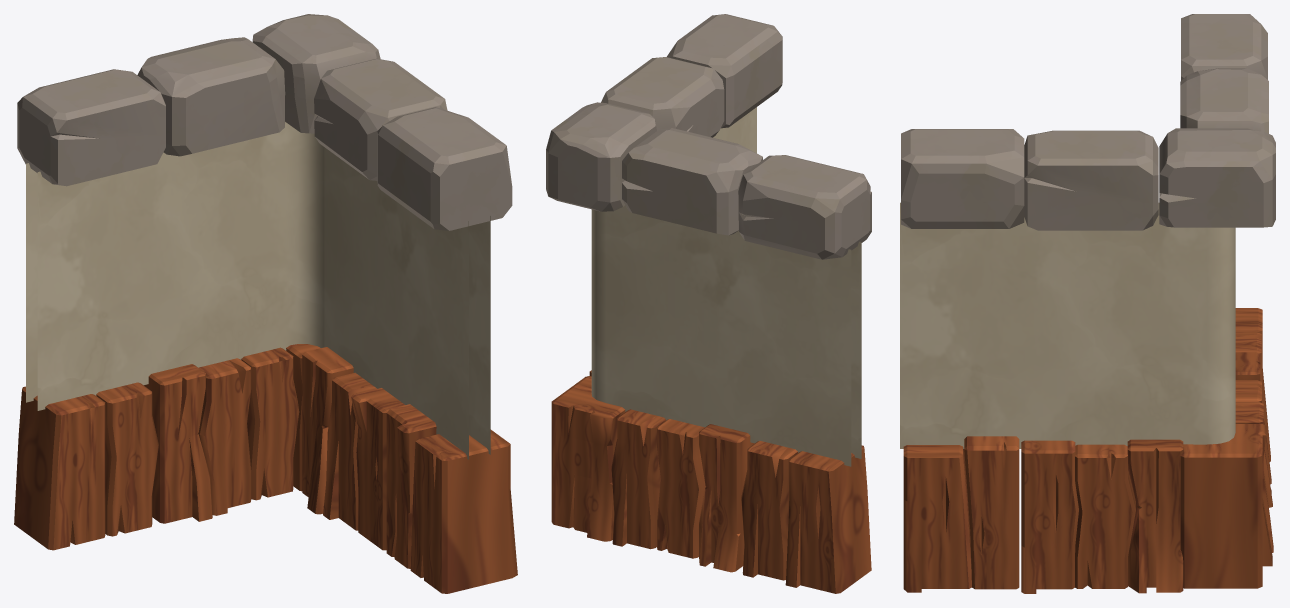
Rendered from SM_WallAngle_01.fbx.
The picture shows the model from 3 angles, left to right: view 1: azimuth 30°, elevation 25°; view 2: azimuth 150°, elevation 25°; view 3: azimuth 270°, elevation 25°; orthographic projection. The views are drawn at different scales.
Parts seen in each view (by area): view 1: SM_WallAngle_01; view 2: SM_WallAngle_01; view 3: SM_WallAngle_01.
Boxes of the visible parts, box(x1,y1,x2,y2) form: SM_WallAngle_01: box(14, 14, 517, 593); SM_WallAngle_01: box(546, 14, 871, 593); SM_WallAngle_01: box(900, 14, 1275, 593).
Size of the model in its own units: 291 by 369 by 292.
